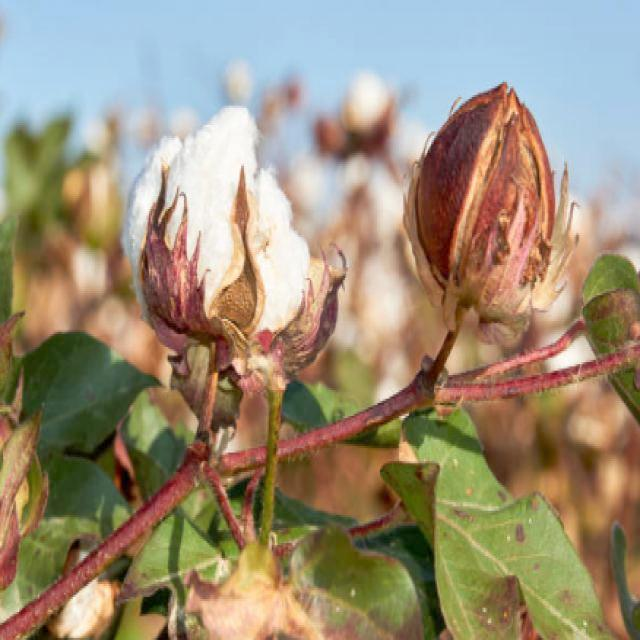Early Boll: (402, 82, 570, 314)
Matured Cotton Boll: (129, 104, 339, 382)
